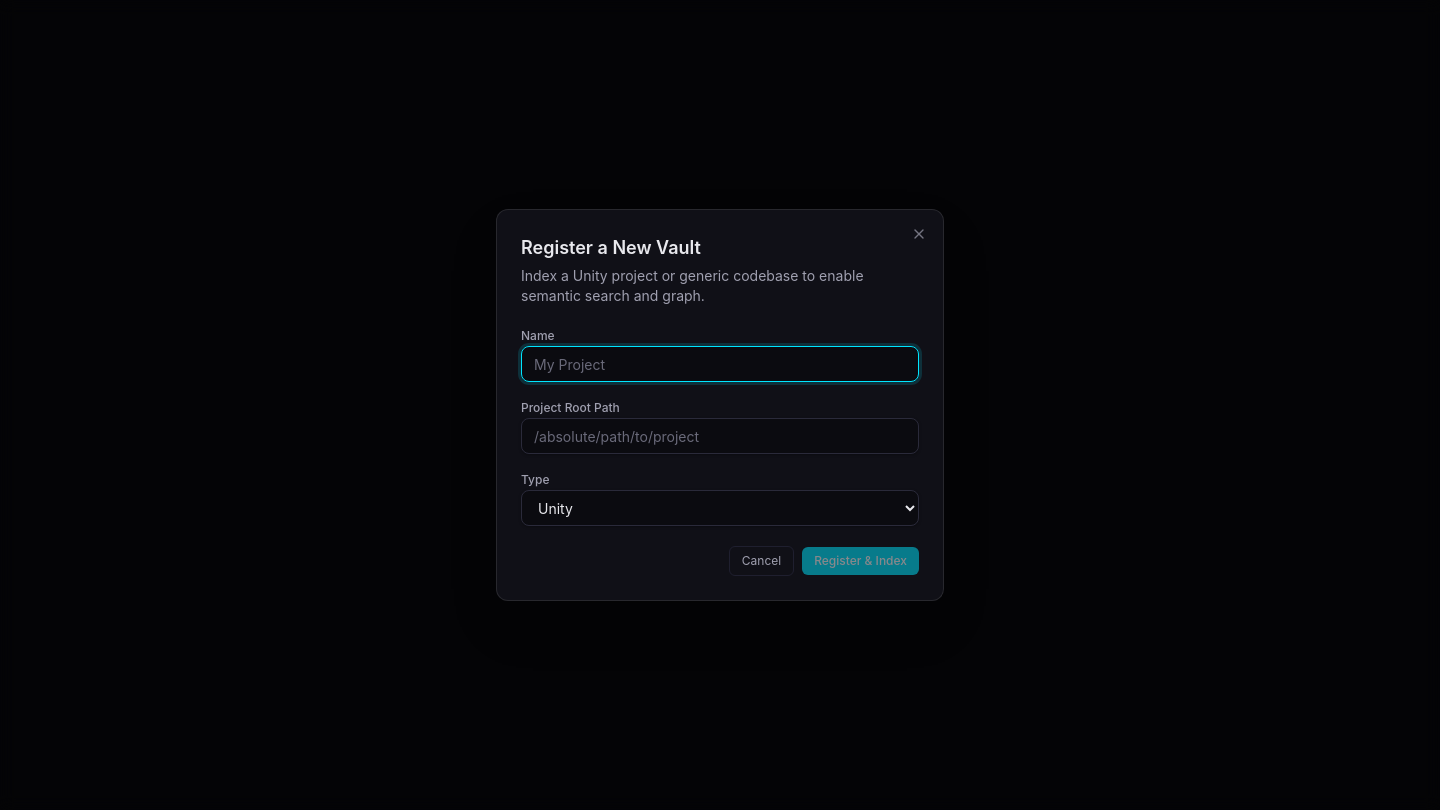
Test: RegisterVaultDialog › renders error message on invalid path response
Type "My Proj" into the field labelled "Name" at point(720, 364), box [521,346,919,382]
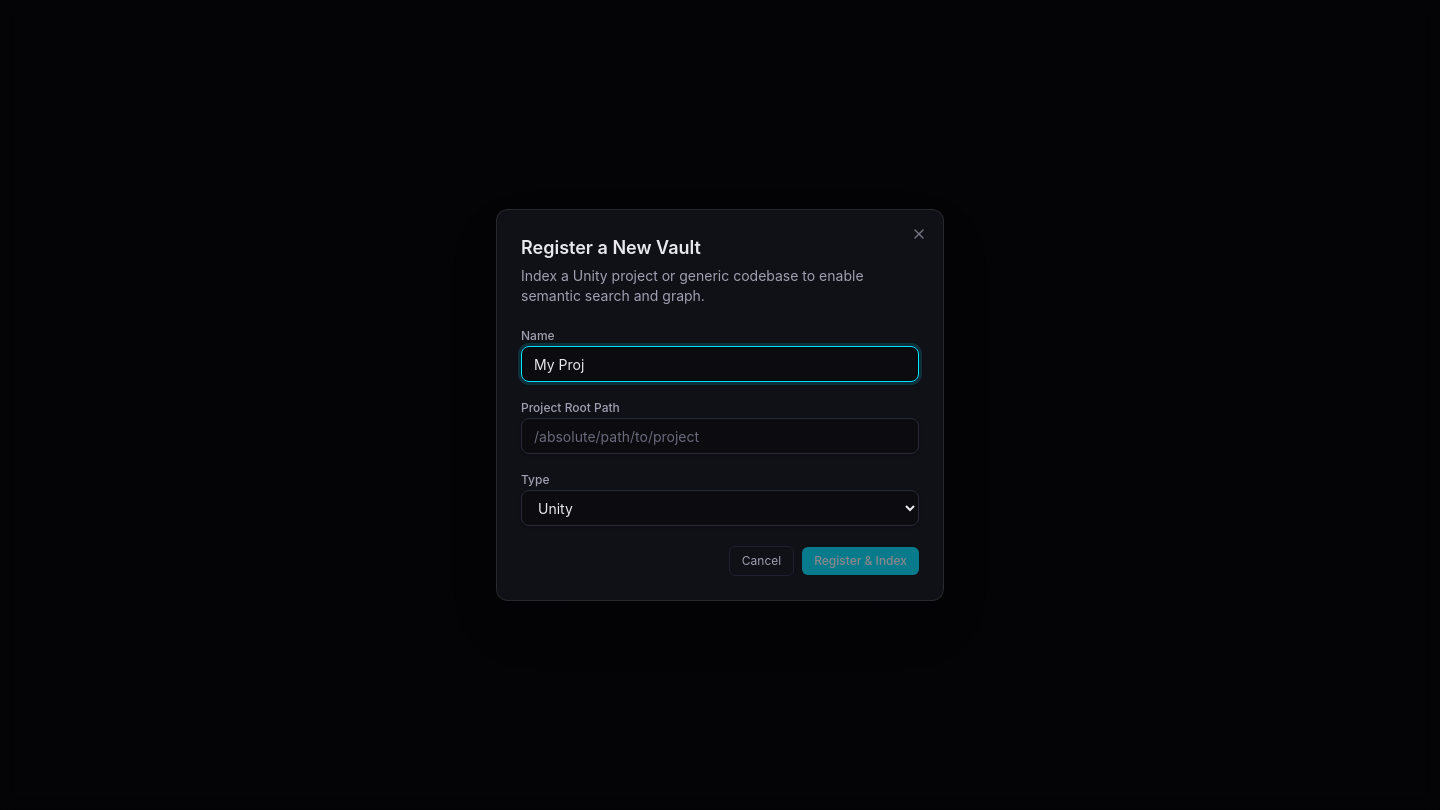
Type "/nope" into the field labelled "Project Root Path" at point(720, 436), box [521,418,919,454]
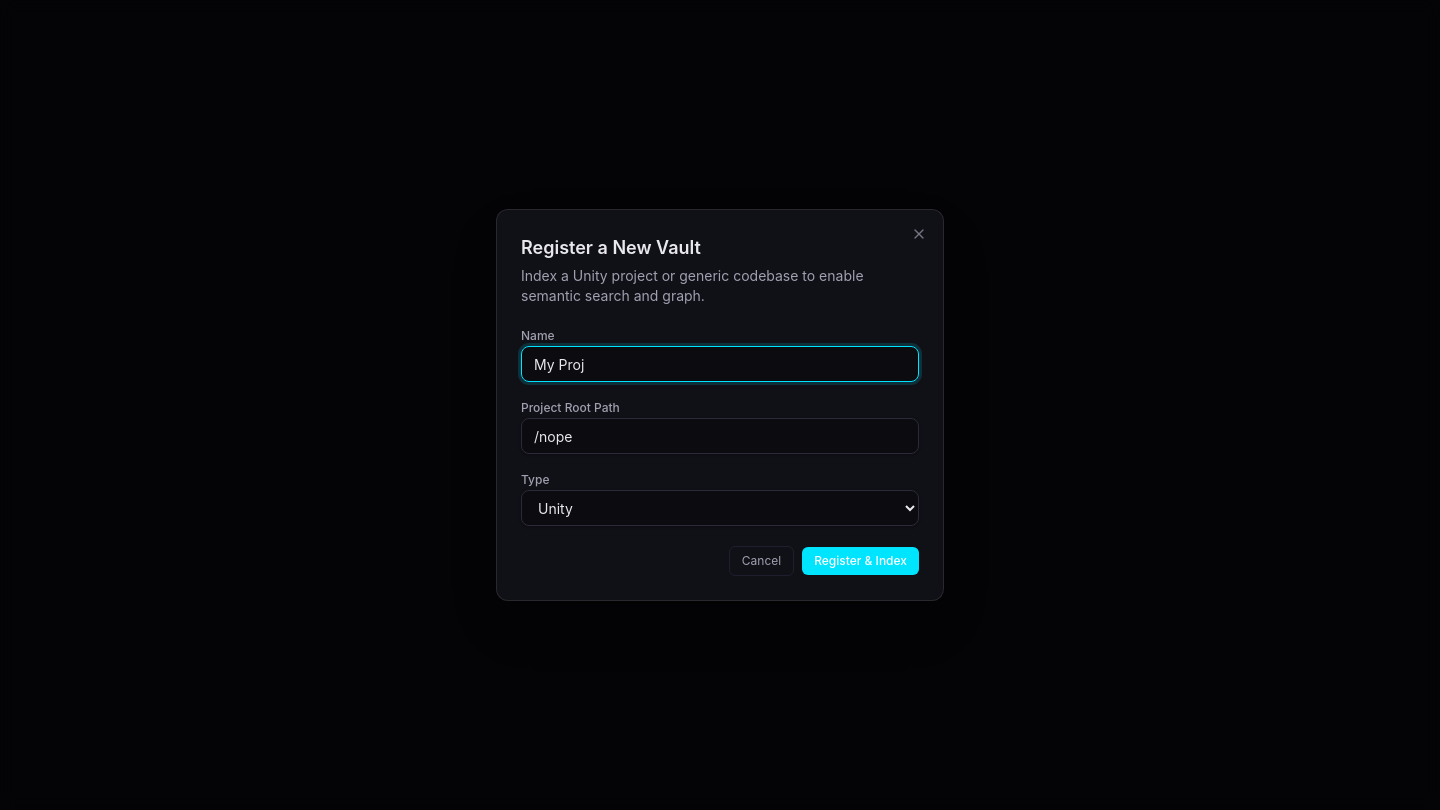
Click the button "Register & Index" at point(861, 561), box [802,547,919,575]
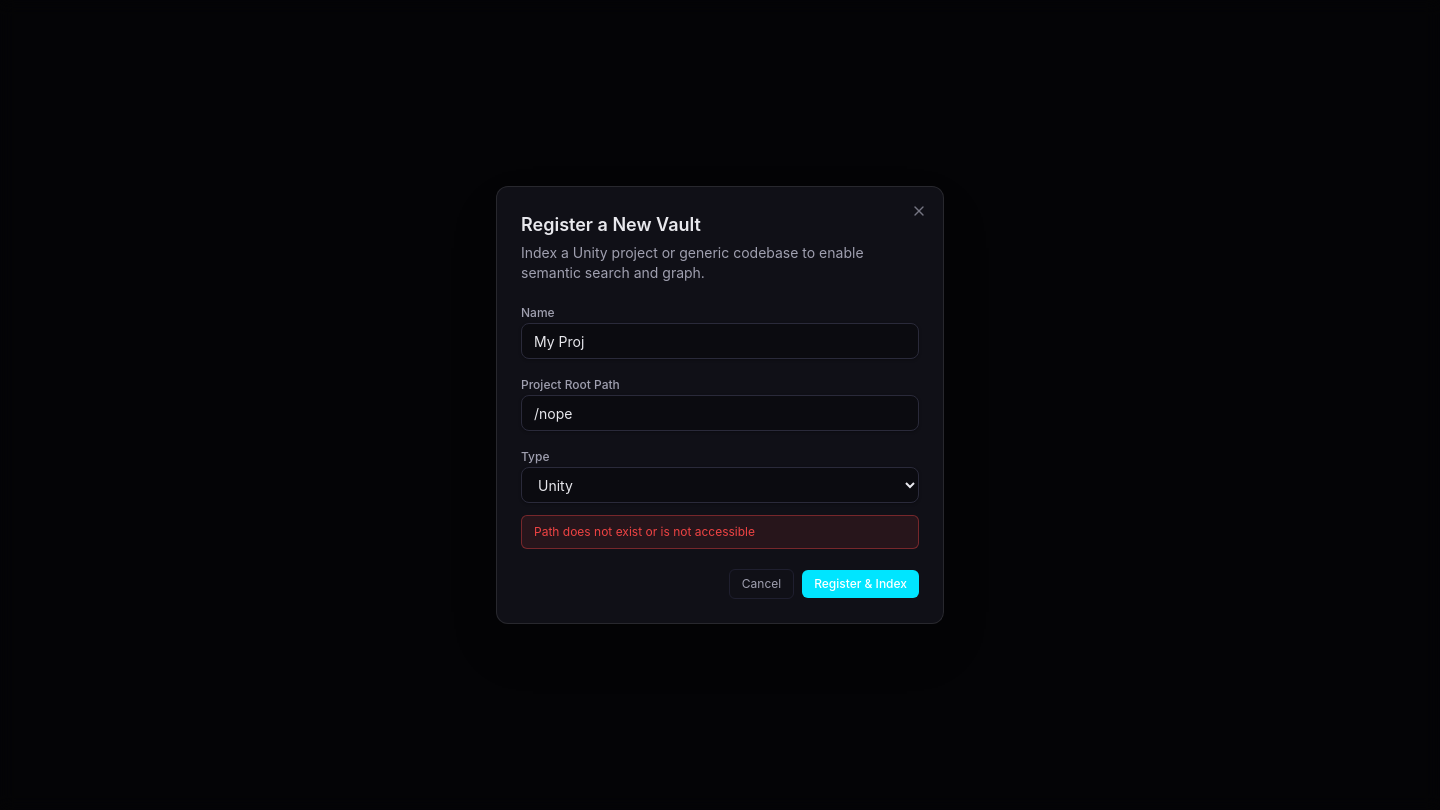
Result: the message "Path does not exist or is not accessible" is shown at [521,515,919,549]
